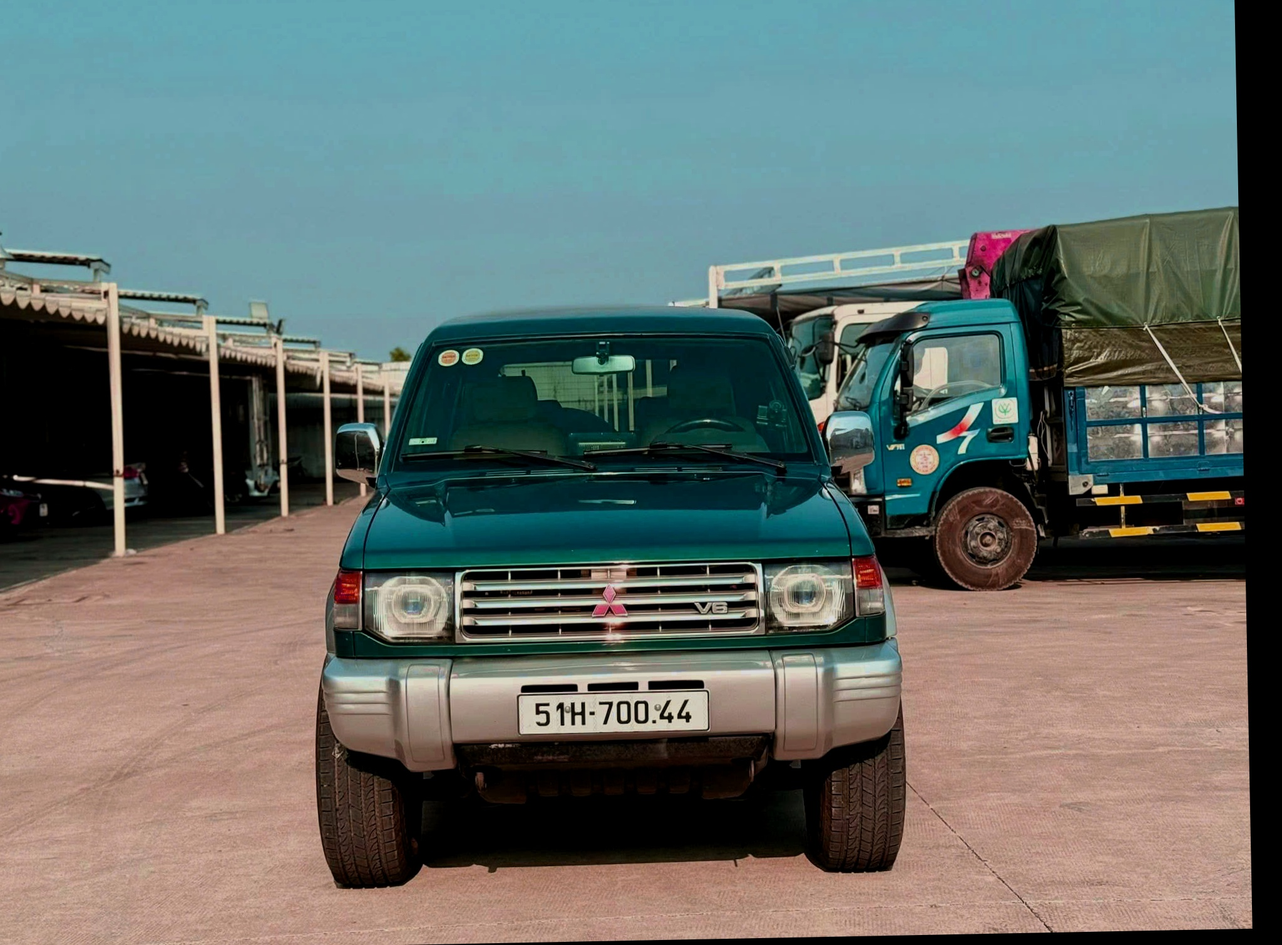Bien-so: (530, 714, 729, 768)
